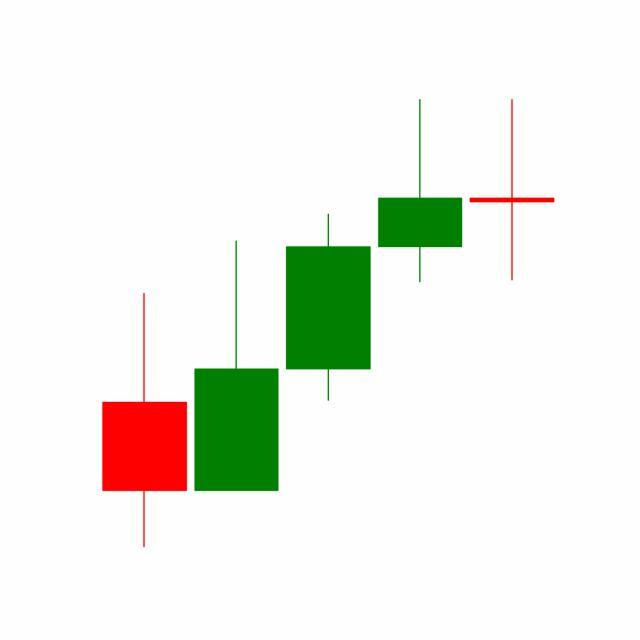Spinning Top: (466, 97, 559, 283)
